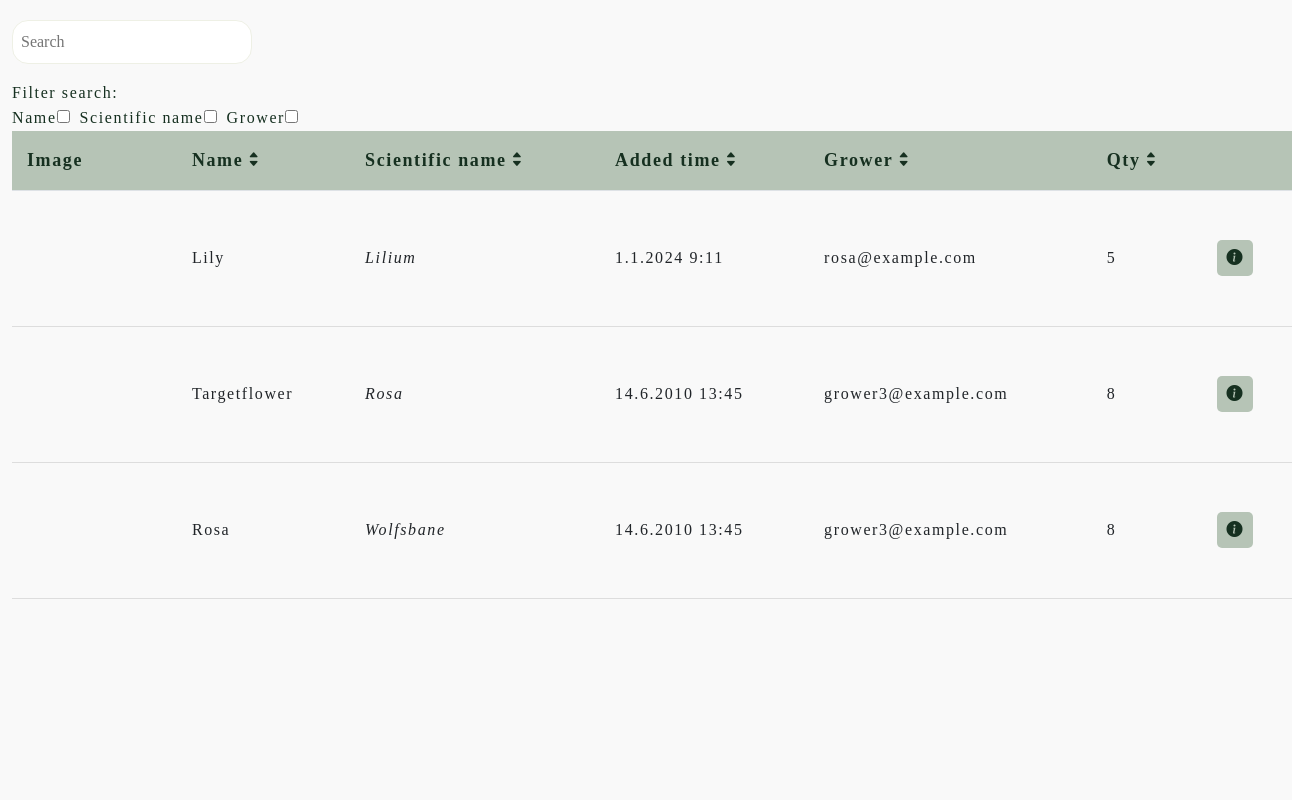
Searches correctly when Scientific name search box is checked
Step 1. Click the checkbox with test id "scientificnamecheckbox" → (210, 117), box [204,110,217,123]
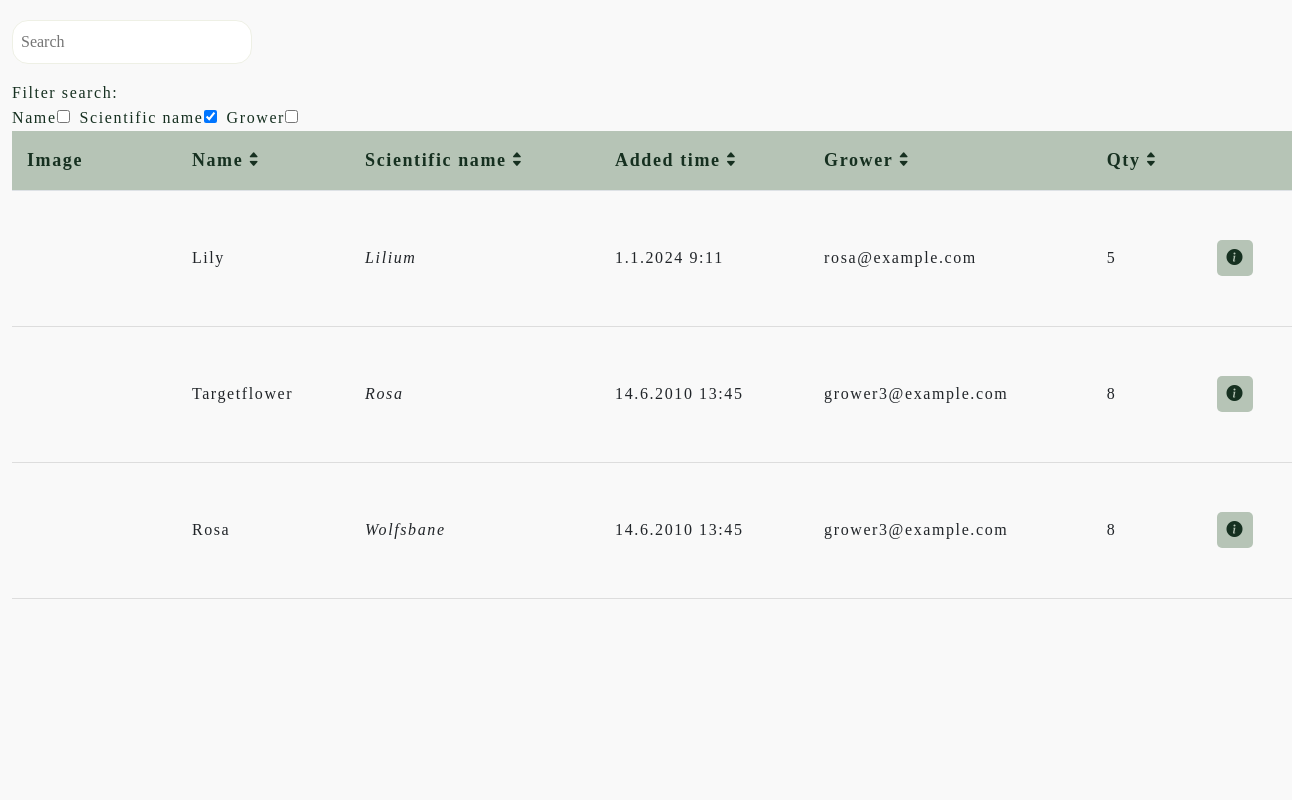
expect the checkbox with test id "scientificnamecheckbox" is checked: met, box [204,110,217,123]
Step 2. Type "Rosa" into the field with placeholder "Search" → (132, 42), box [12,20,252,64]
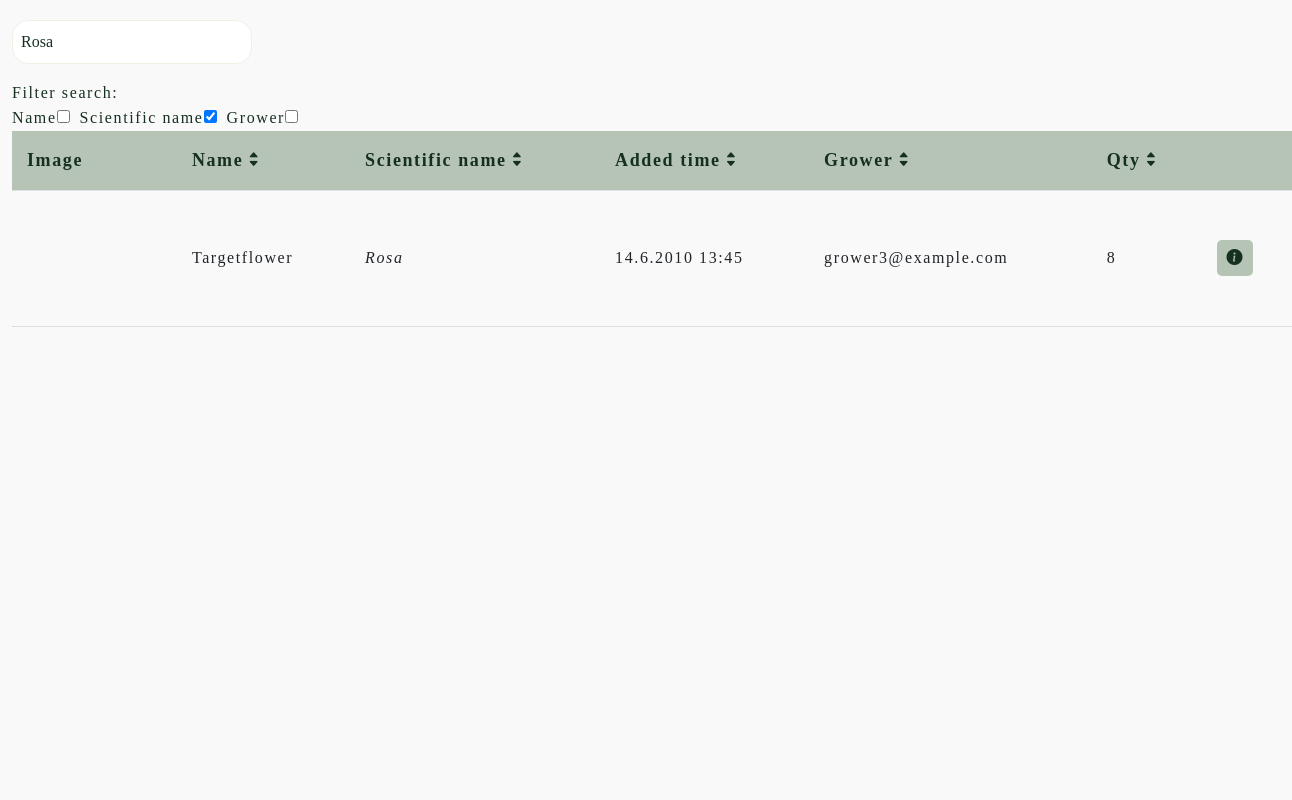
expect the text "Targetflower" is shown: met, box [177,190,350,326]
expect the text "Wolfsbane" is gone: met
expect the text "rosa@example.com" is gone: met
